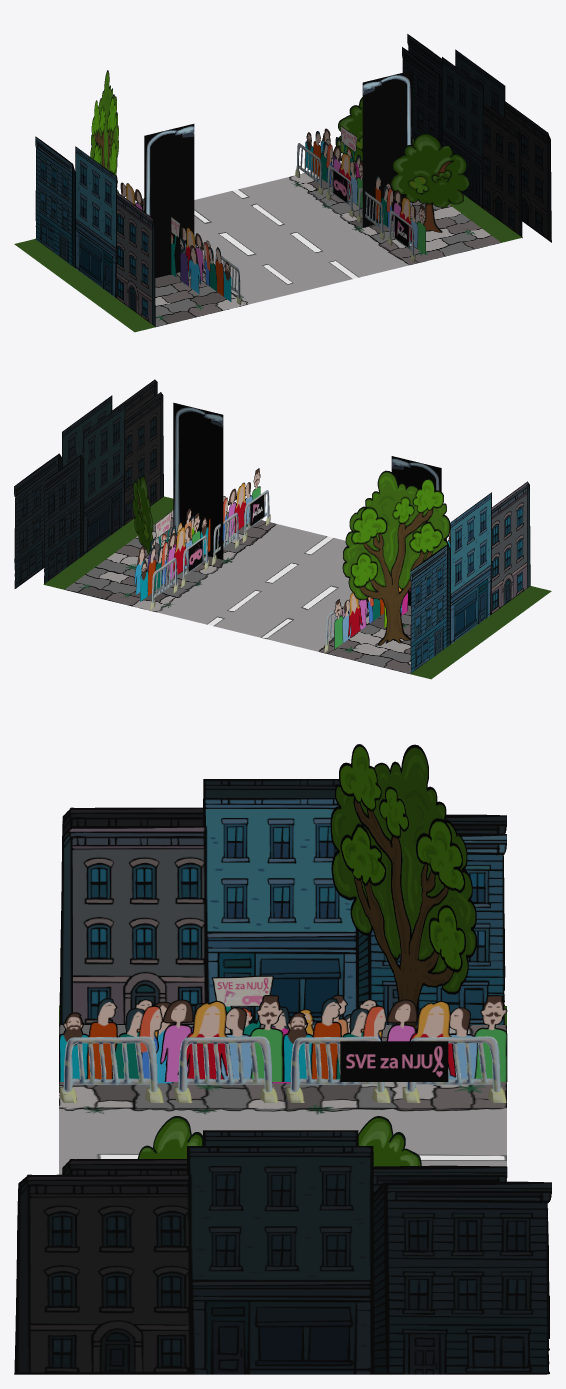
3 views of the same model, one above another, from view 1: azimuth 30°, elevation 25°; view 2: azimuth 150°, elevation 25°; view 3: azimuth 270°, elevation 25° (orthographic). The views are drawn at different scales.
Visible parts, largest first — view 1: Road.002, Buildings-Light-L.001, Buildings-Dark-R.003, Lamp-Post-L.001, Lamp-Post-R.001, Buildings-Dark-R.001, Tree.007, Tree-Big, crowd.005, crowd.004, crowd.006, crowd2.002 (+6 smaller); view 2: Road.002, Buildings-Light-L.001, Buildings-Dark-R.003, Tree-Big, Lamp-Post-R.001, Buildings-Dark-R.001, crowd.005, crowd.008, crowd.004, Lamp-Post-L.001, Tree.006, crowd2.003 (+4 smaller); view 3: Buildings-Dark-R.001, Buildings-Light-L.001, Tree-Big, Road.002, crowd.006, crowd.008, Buildings-Dark-R.003, Buildings-Dark-L.001, Logo_sznj.001, Fence-L.005, Fence-L.004, crowd2.002 (+4 smaller).
Part boxes in pixels (x1,y1,x2,y2): Road.002: (14, 161, 521, 332); Buildings-Light-L.001: (35, 136, 155, 326); Buildings-Dark-R.003: (402, 47, 522, 238); Lamp-Post-L.001: (144, 124, 194, 277); Lamp-Post-R.001: (362, 70, 412, 227); Buildings-Dark-R.001: (407, 34, 551, 242); Tree.007: (390, 133, 469, 232); Tree-Big: (90, 70, 118, 175); crowd.005: (305, 131, 362, 207); crowd.004: (375, 175, 425, 254); crowd.006: (181, 226, 231, 301); crowd2.002: (143, 210, 200, 294); Road.002: (43, 496, 551, 679); Buildings-Light-L.001: (410, 481, 530, 673); Buildings-Dark-R.003: (43, 392, 163, 583); Tree-Big: (342, 470, 450, 645); Lamp-Post-R.001: (173, 402, 223, 559); Buildings-Dark-R.001: (14, 379, 157, 588); crowd.005: (140, 512, 200, 601); crowd.008: (334, 592, 384, 649); crowd.004: (200, 468, 260, 554); Lamp-Post-L.001: (391, 456, 441, 605); Tree.006: (132, 475, 153, 554); crowd2.003: (134, 508, 194, 594); Buildings-Dark-R.001: (14, 1146, 551, 1374); Buildings-Light-L.001: (59, 798, 506, 1024); Tree-Big: (330, 744, 476, 1031); Road.002: (59, 1006, 506, 1181); crowd.006: (59, 995, 283, 1081); crowd.008: (283, 995, 507, 1081); Buildings-Dark-R.003: (62, 1130, 507, 1192); Buildings-Dark-L.001: (59, 779, 506, 1006); Logo_sznj.001: (340, 1041, 448, 1081); Fence-L.005: (59, 1036, 163, 1102); Fence-L.004: (174, 1036, 278, 1102); crowd2.002: (154, 975, 350, 1083).
Bounding box in the file's own units: 1164 × 480 × 720.
Materials: 16 (15 with a texture image).
